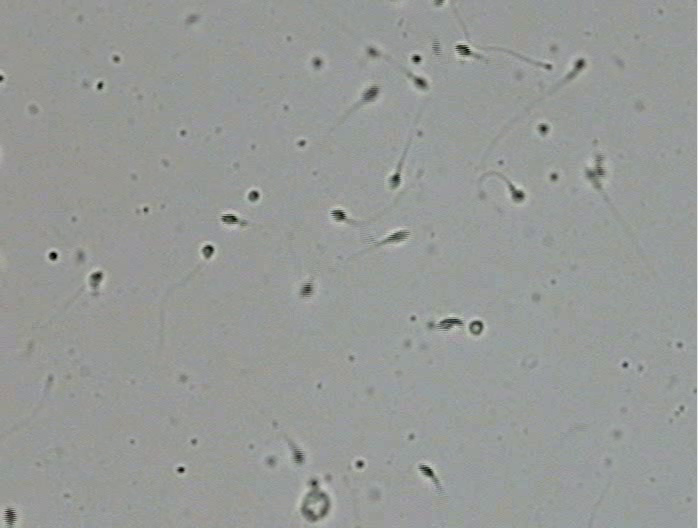Impurity: (300, 478, 331, 522)
S: (436, 317, 464, 330), (2, 507, 17, 527), (385, 231, 410, 243), (362, 86, 379, 103), (417, 463, 434, 478), (595, 156, 606, 177), (220, 213, 239, 225), (469, 320, 484, 335), (89, 271, 103, 287), (299, 283, 313, 298), (330, 209, 346, 222), (292, 448, 304, 465), (454, 44, 471, 56), (414, 76, 428, 90), (389, 173, 401, 189), (202, 244, 214, 259), (585, 168, 598, 181), (511, 190, 525, 202), (432, 40, 441, 57), (248, 190, 260, 202), (574, 59, 585, 71), (312, 57, 323, 68), (367, 47, 378, 57), (538, 123, 548, 134), (411, 54, 421, 64), (435, 1, 445, 6), (1, 74, 5, 83)
